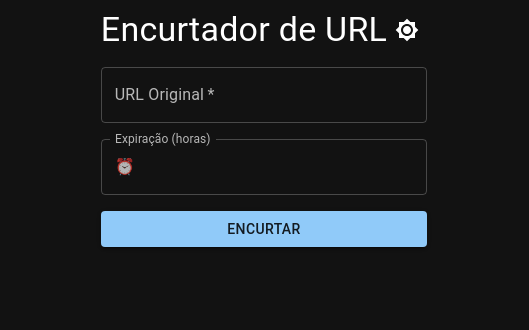
Scenario: App Component › deve encurtar uma URL válida e exibir o resultado
Type "https://www.example.com" into the field labelled "URL Original *" at (264, 95), box [101,67,427,123]
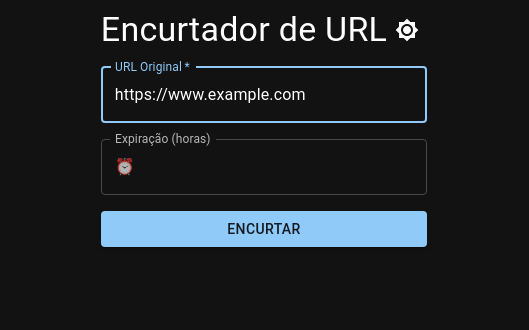
Type "24" into the number field labelled "Expiração (horas)" at (285, 167), box [143,139,427,195]
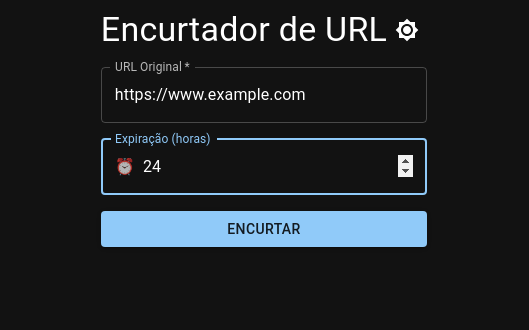
Click the button "Encurtar" at (264, 229), box [101,211,427,247]
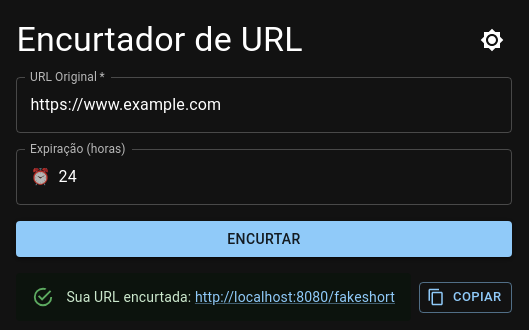
Now the text "Sua URL encurtada: http://localhost:8080/fakeshort" is shown, box [66,289,395,305]
Now the link "http://localhost:8080/fakeshort" is shown, box [195,289,395,305]
